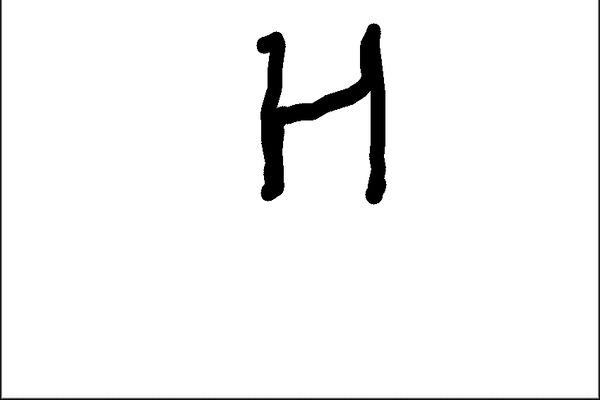H: (249, 19, 387, 206)
